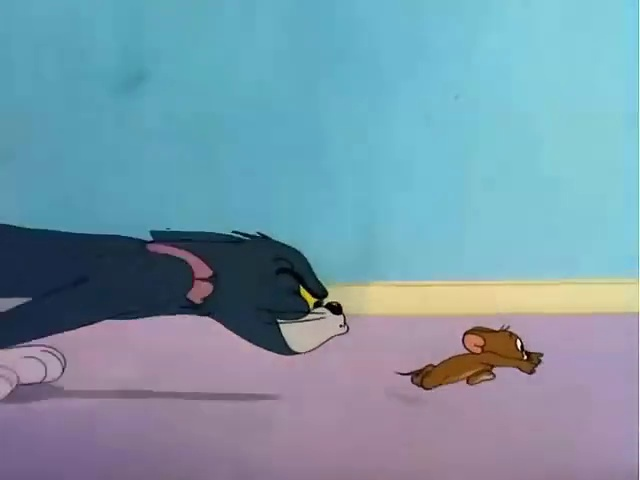tom: (4, 183, 368, 411)
